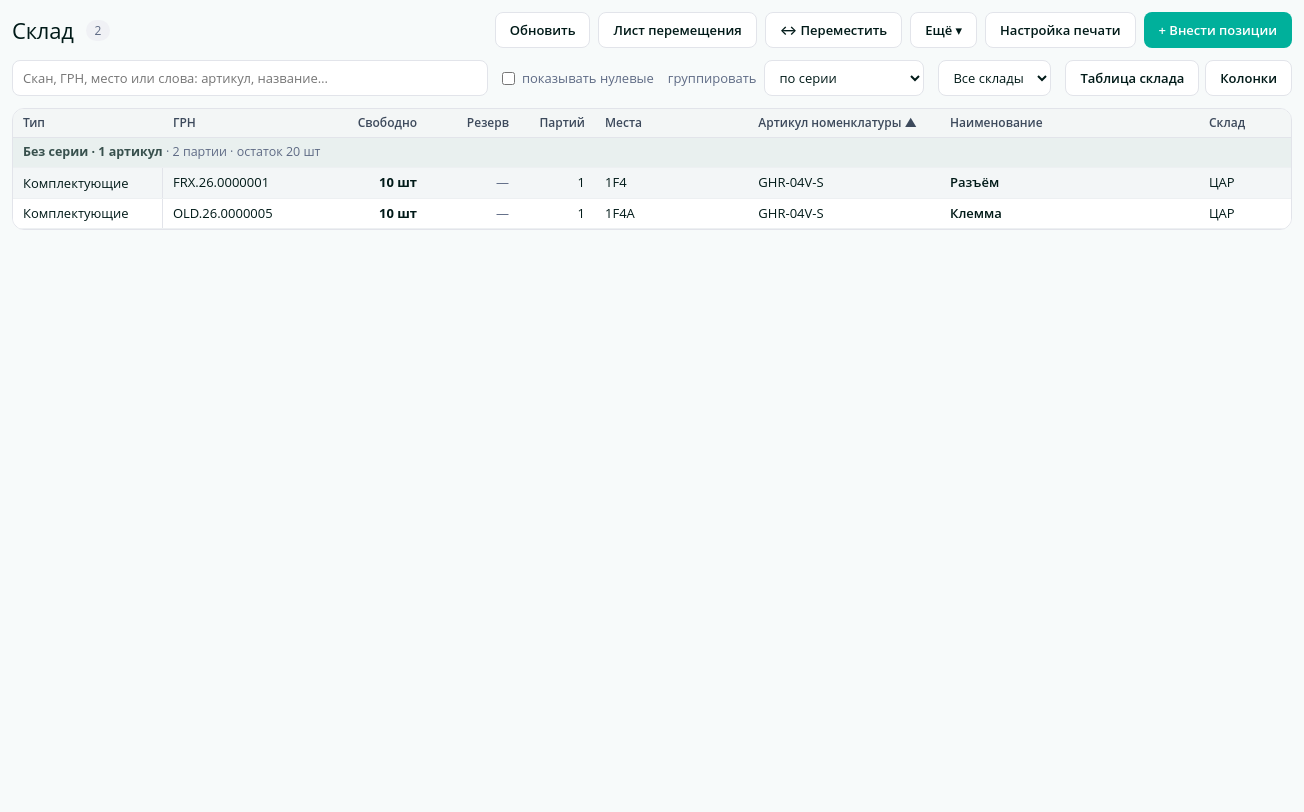
Test: a write-off without a purpose is stopped in the card, nothing is sent
Type "FRX.26.0000001" into the field named "Поиск по складу" at (250, 78), box [12, 60, 488, 96]
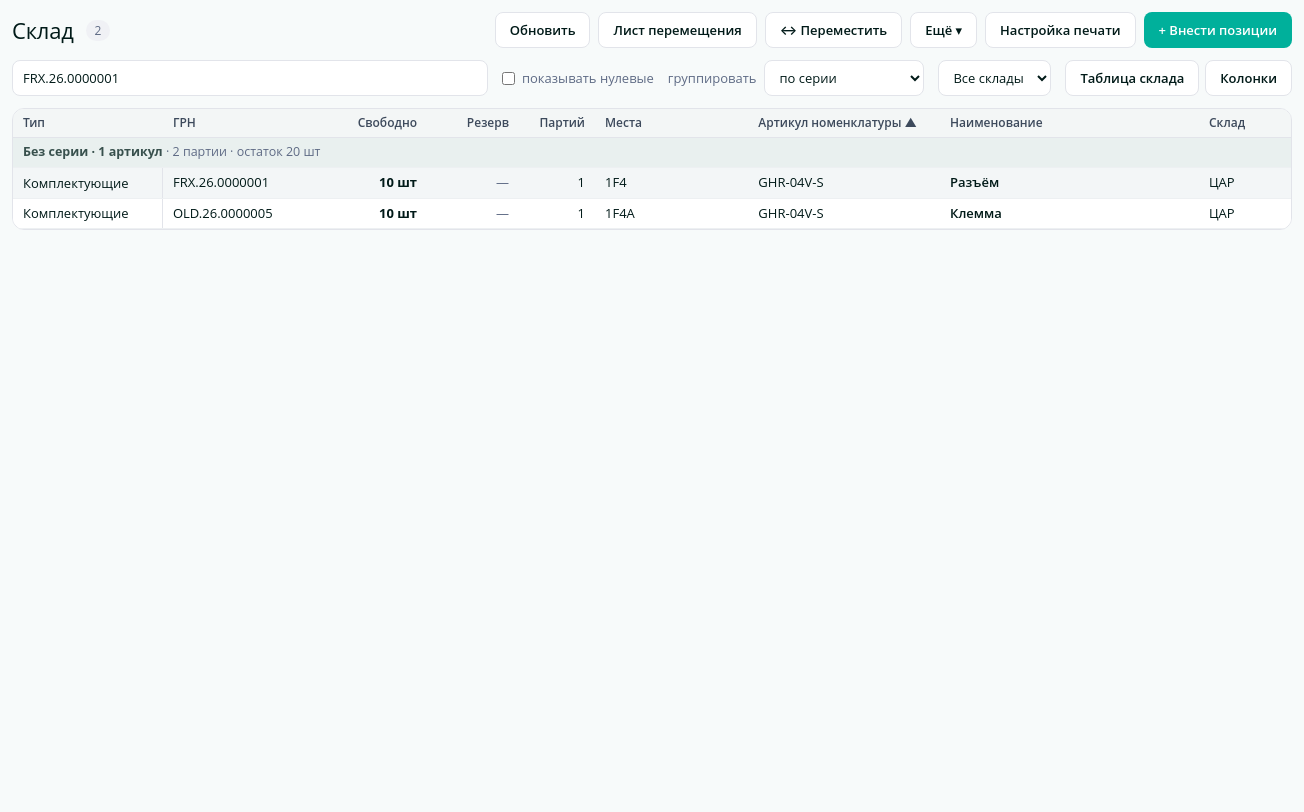
Submit the form named "Поиск по складу", box [12, 60, 488, 96]
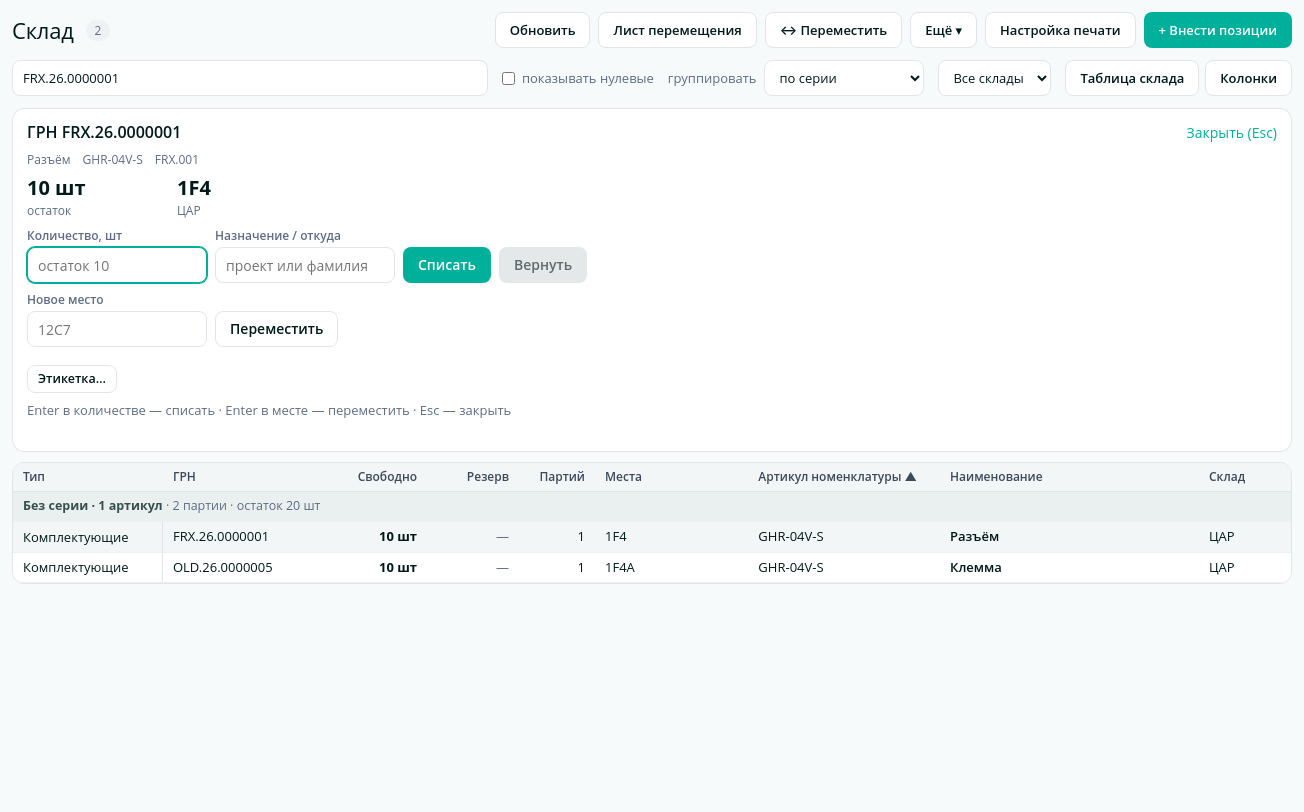
Type "1" into the field labelled "Количество" at (117, 265), box [27, 247, 207, 283]
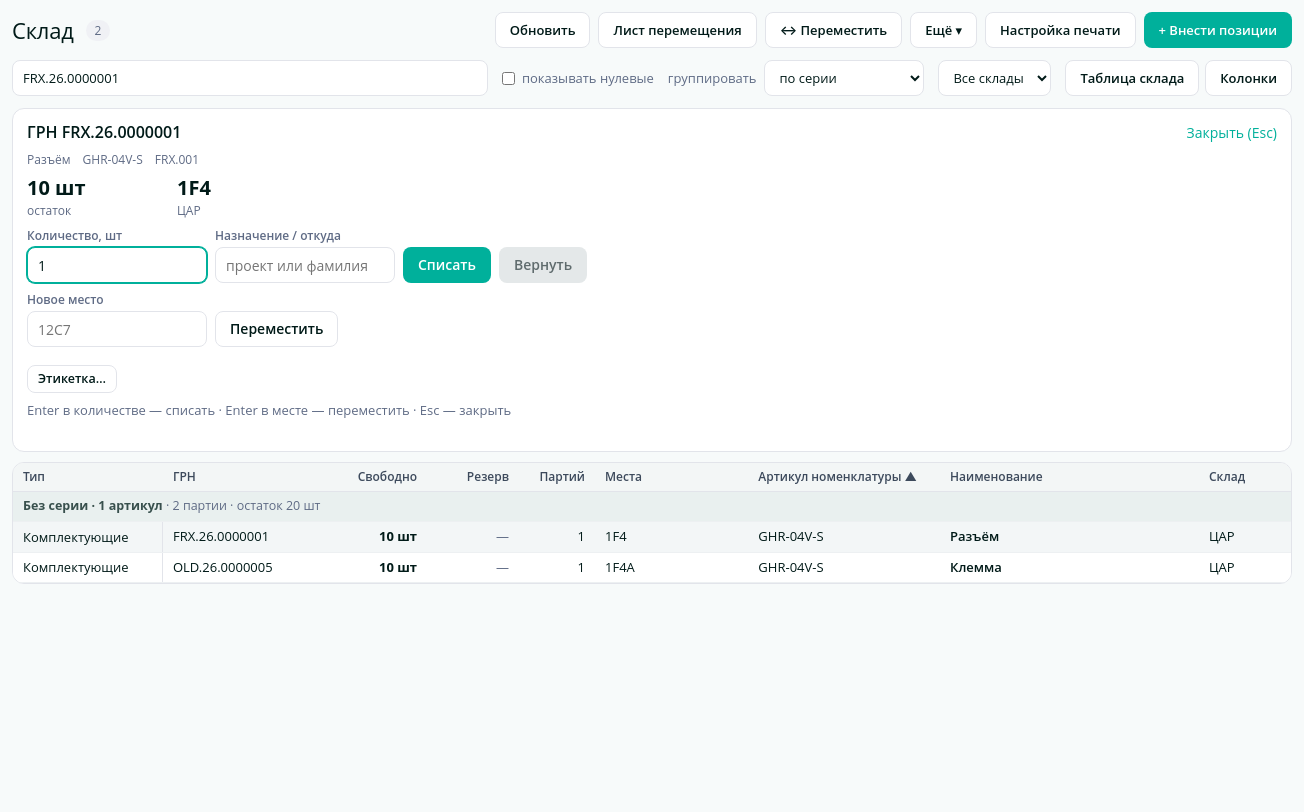
Click the button "Списать" at (447, 265), box [403, 247, 491, 283]
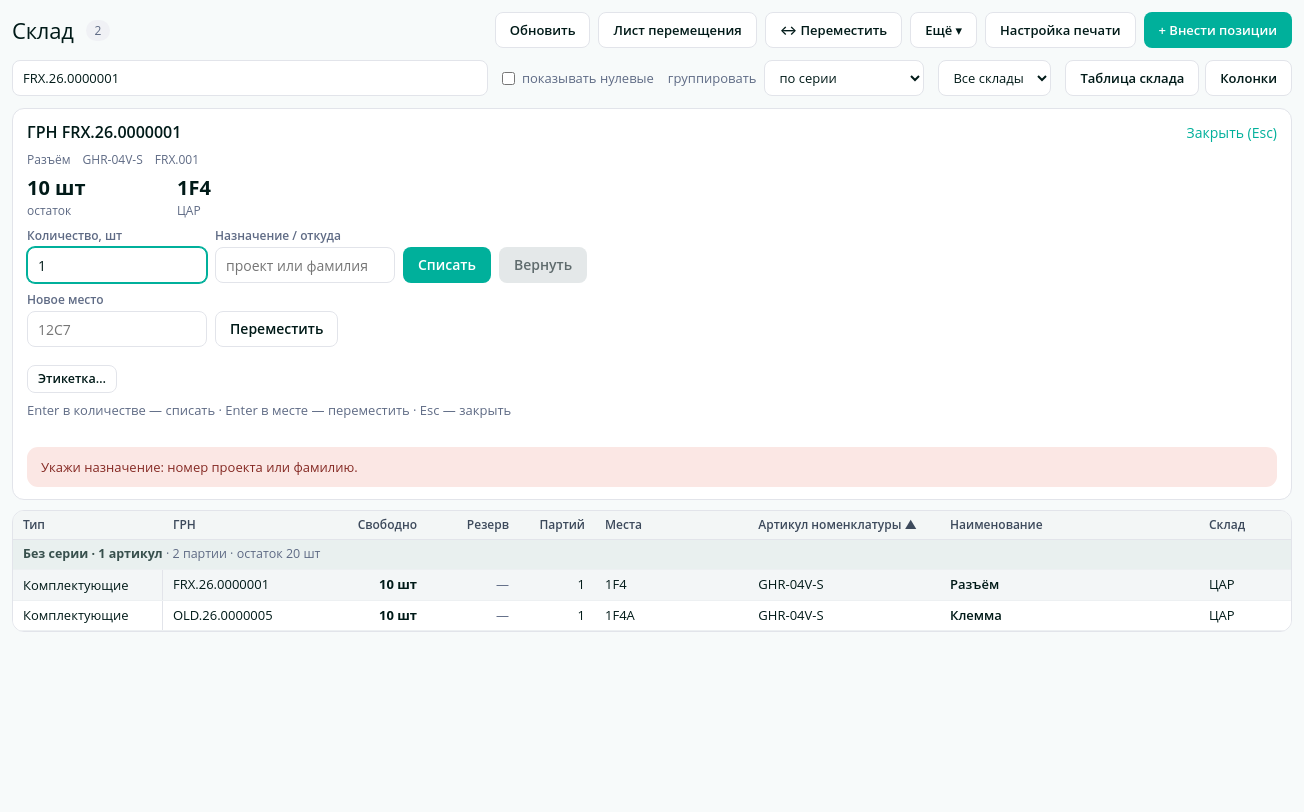
Expected: the message shows "Укажи назначение", [41, 458, 358, 476]
